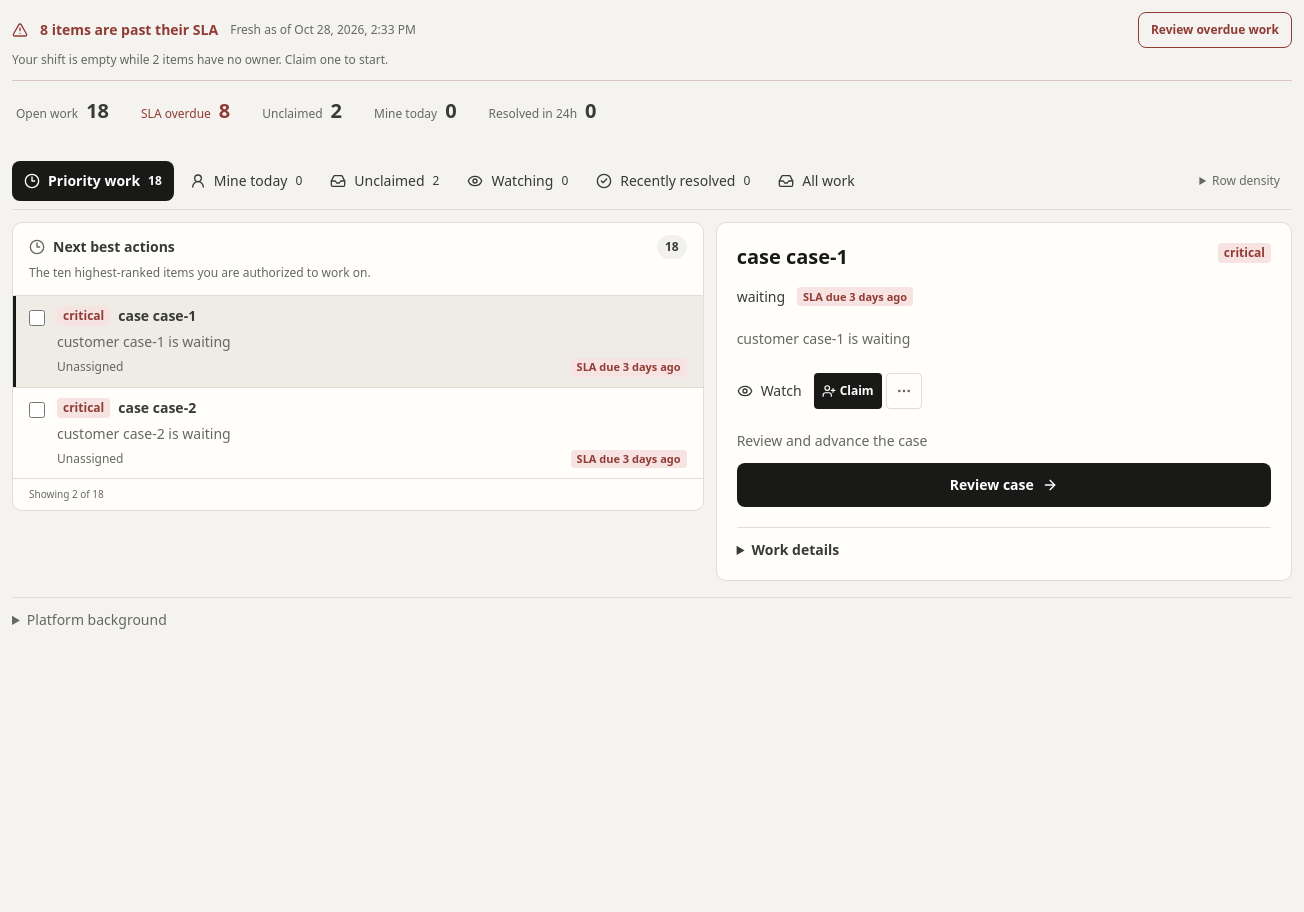
Test: Today operator actions › claims a whole selection through one action and one report
Click the checkbox named "Select case case-1".
click(37, 318)  # box 29,310 -> 45,326
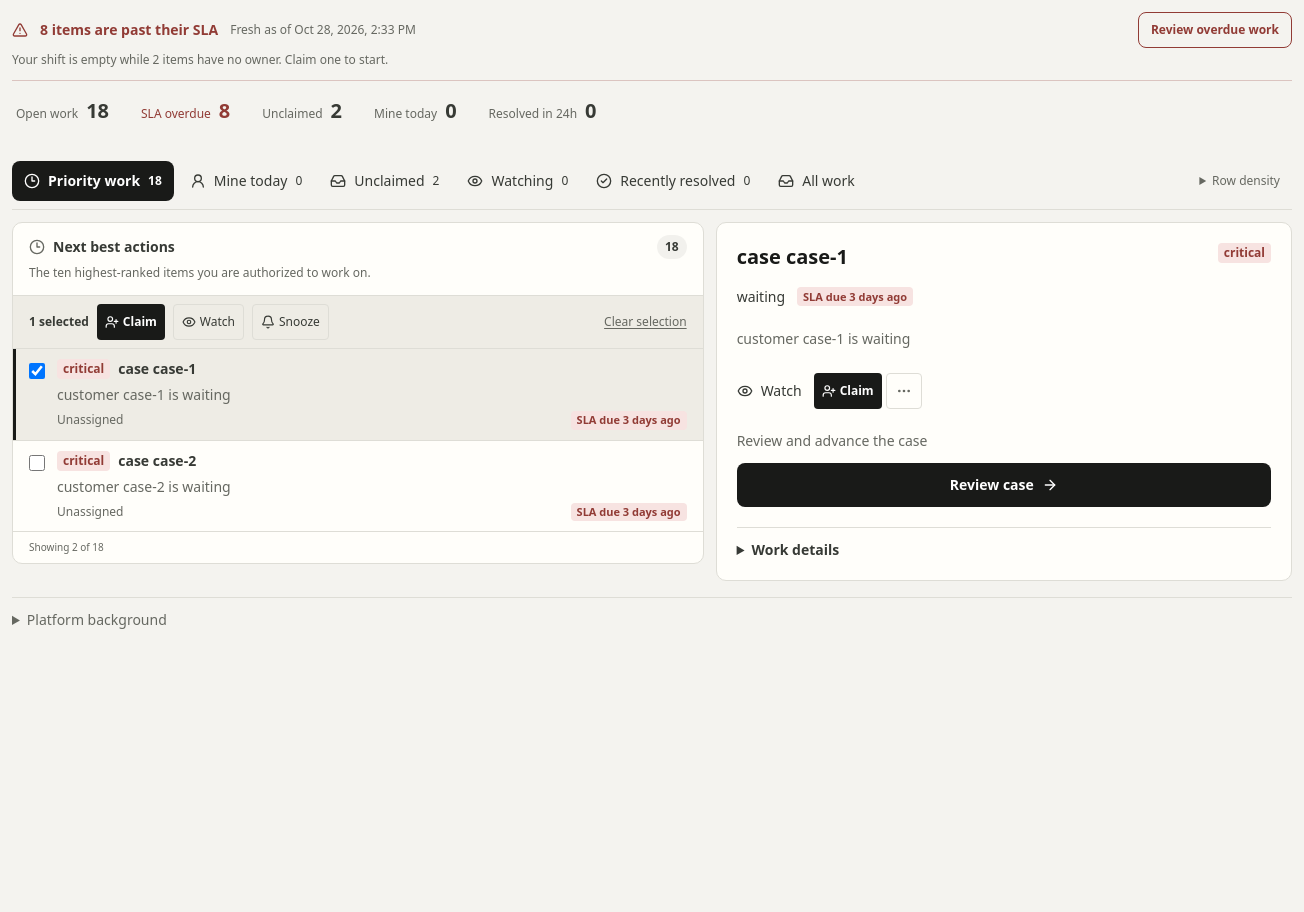
Click the checkbox named "Select case case-2".
click(37, 463)  # box 29,455 -> 45,471
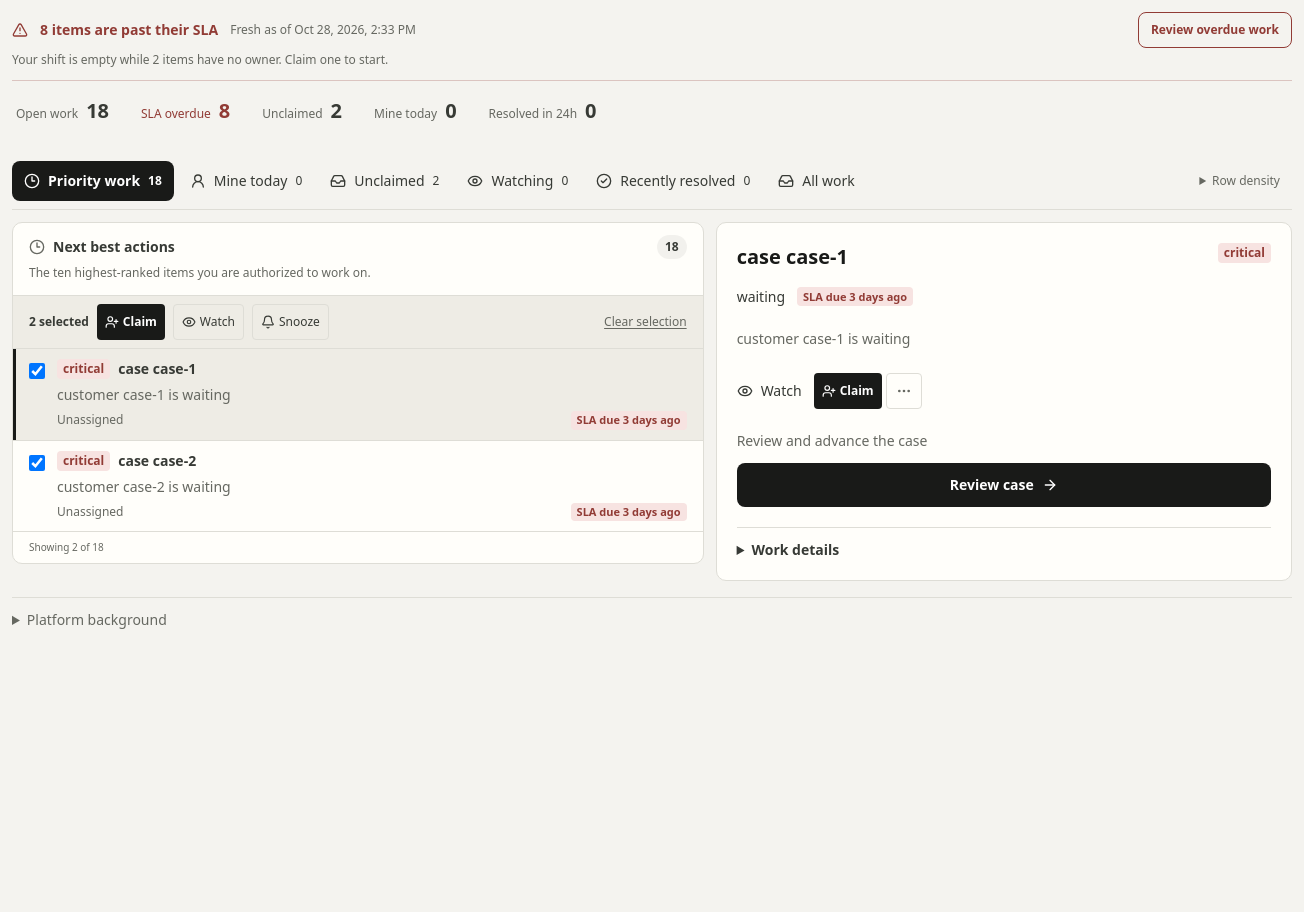
Now the element with test id "today-bulk-actions" shows "2 selected", box 29,313 -> 89,330
Click the button "Claim" next to "2 selected".
click(131, 322)  # box 97,304 -> 165,340
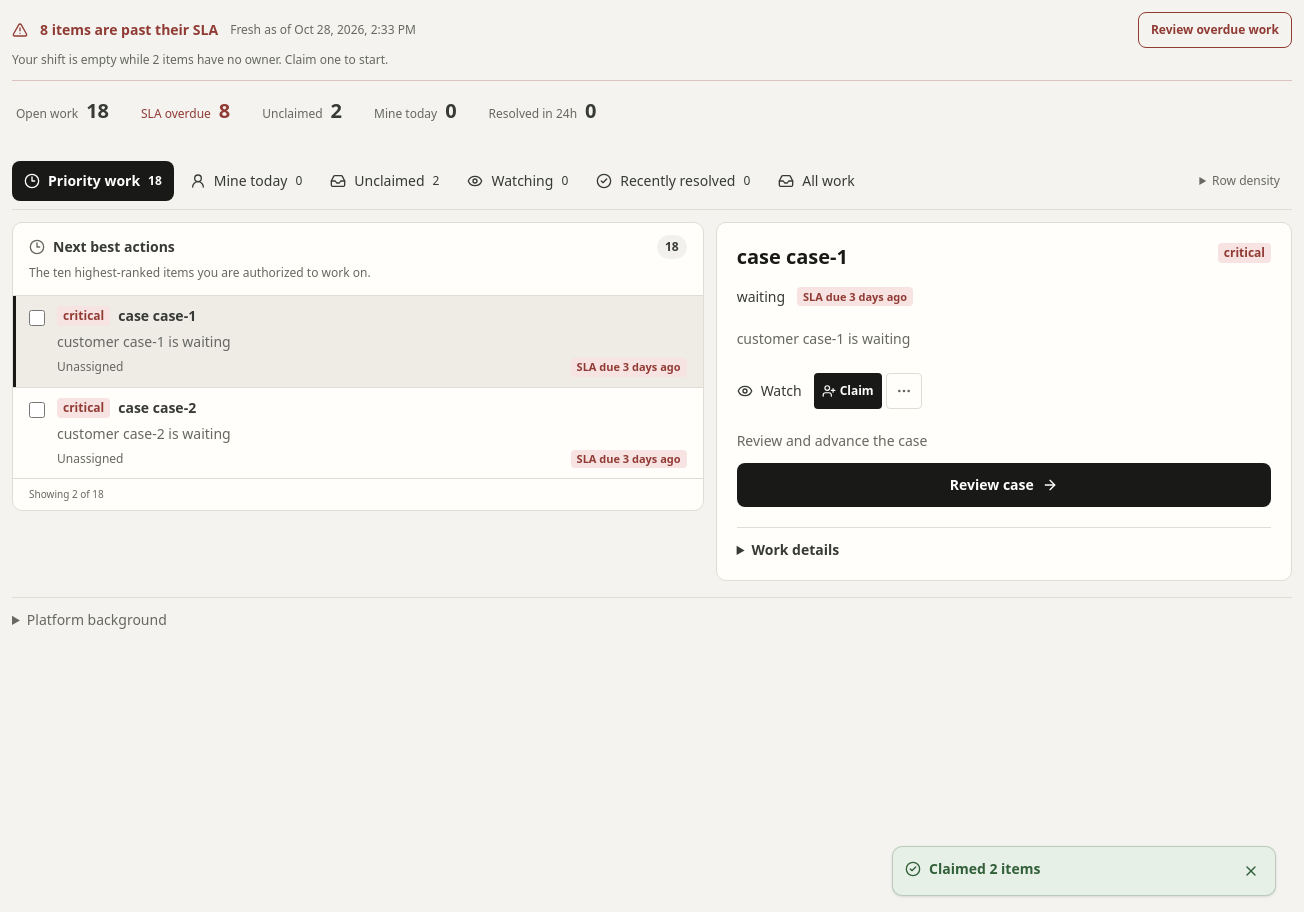
Now the message with test id "admin-action-status" reads "Claimed 2 items", box 929,859 -> 1040,878
